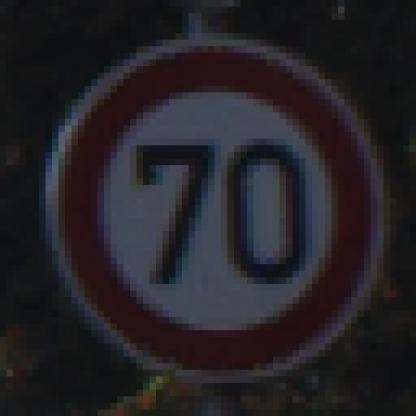Speed Limit 70: (54, 40, 382, 381)
